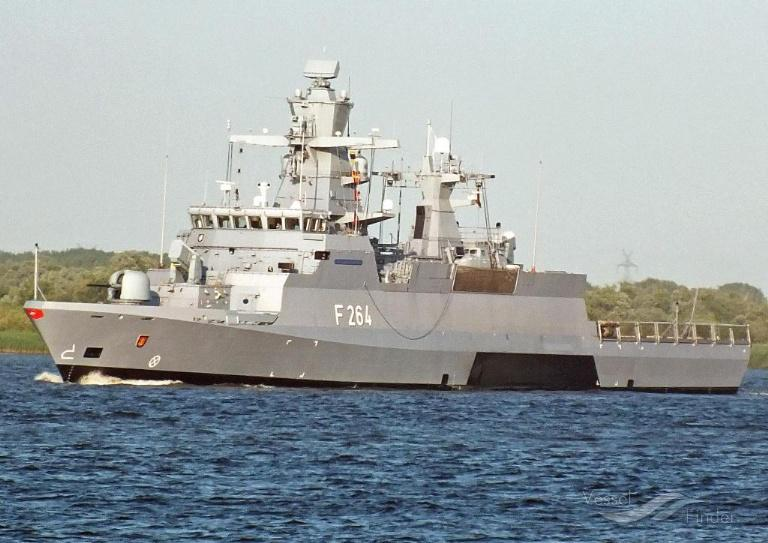OCR: (324, 300, 376, 336)
